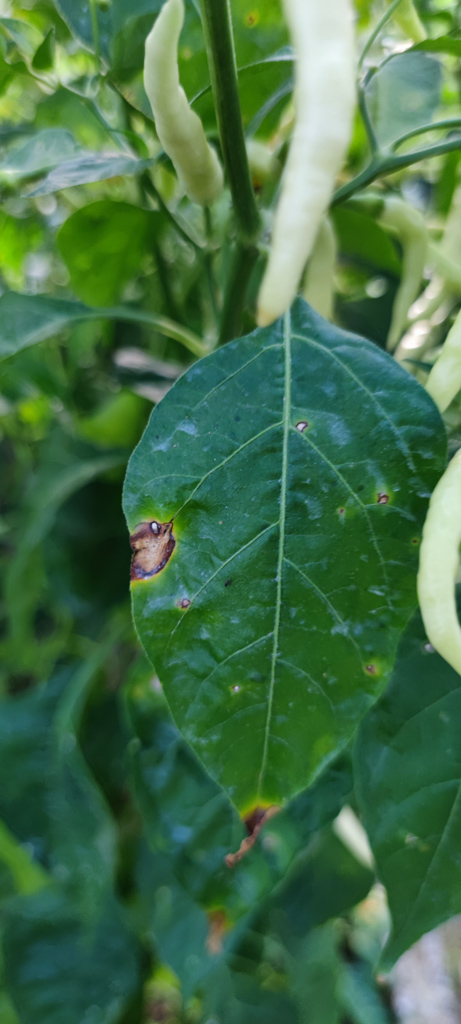frog-eye leafspot: (125, 494, 184, 594), (285, 411, 315, 441), (171, 589, 196, 619), (371, 488, 398, 508), (360, 655, 377, 681)
